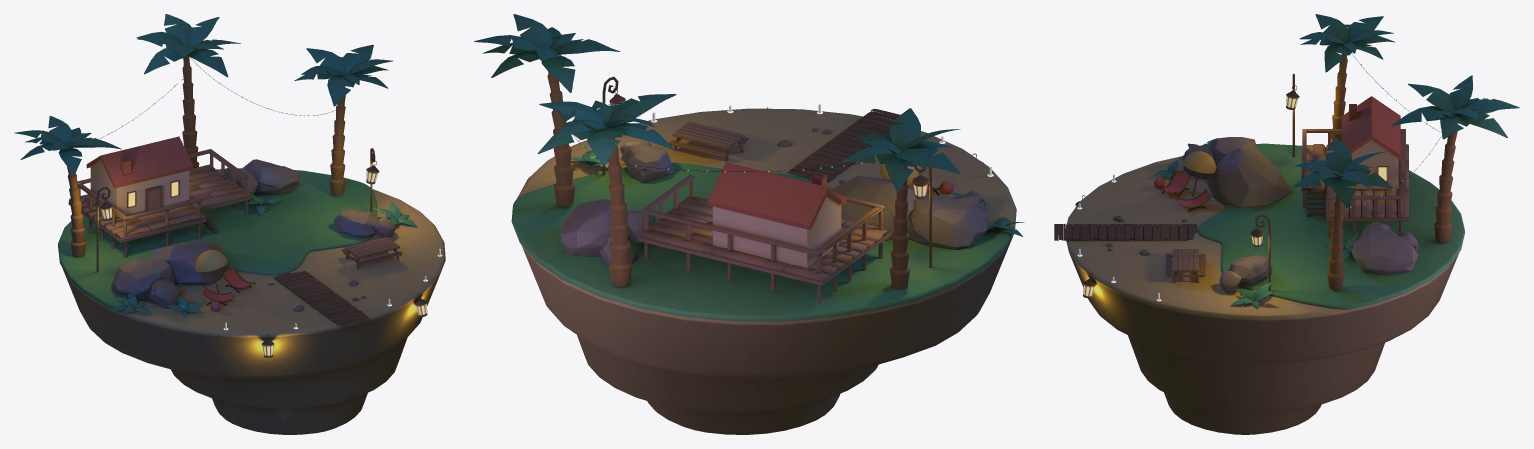
File: SkyIsland.glb
3 views of the same model, side by side, from view 1: azimuth 30°, elevation 25°; view 2: azimuth 150°, elevation 25°; view 3: azimuth 270°, elevation 25° (orthographic). The views are drawn at different scales.
Visible parts, largest first — view 1: Island_Baked, Table_Baked, Lantern.005_Baked; view 2: Island_Baked, Table_Baked; view 3: Island_Baked, Table_Baked.
Part boxes in pixels (left/top/right/bottom): Island_Baked: left=14, top=14, right=445, bottom=434; Table_Baked: left=77, top=149, right=399, bottom=258; Lantern.005_Baked: left=102, top=171, right=426, bottom=355; Island_Baked: left=474, top=14, right=1024, bottom=434; Table_Baked: left=641, top=121, right=884, bottom=255; Island_Baked: left=1054, top=14, right=1519, bottom=434; Table_Baked: left=1172, top=129, right=1405, bottom=272.
Size of the model in its own units: 7.8 by 6.05 by 8.29.
5 materials, 4 textured.
